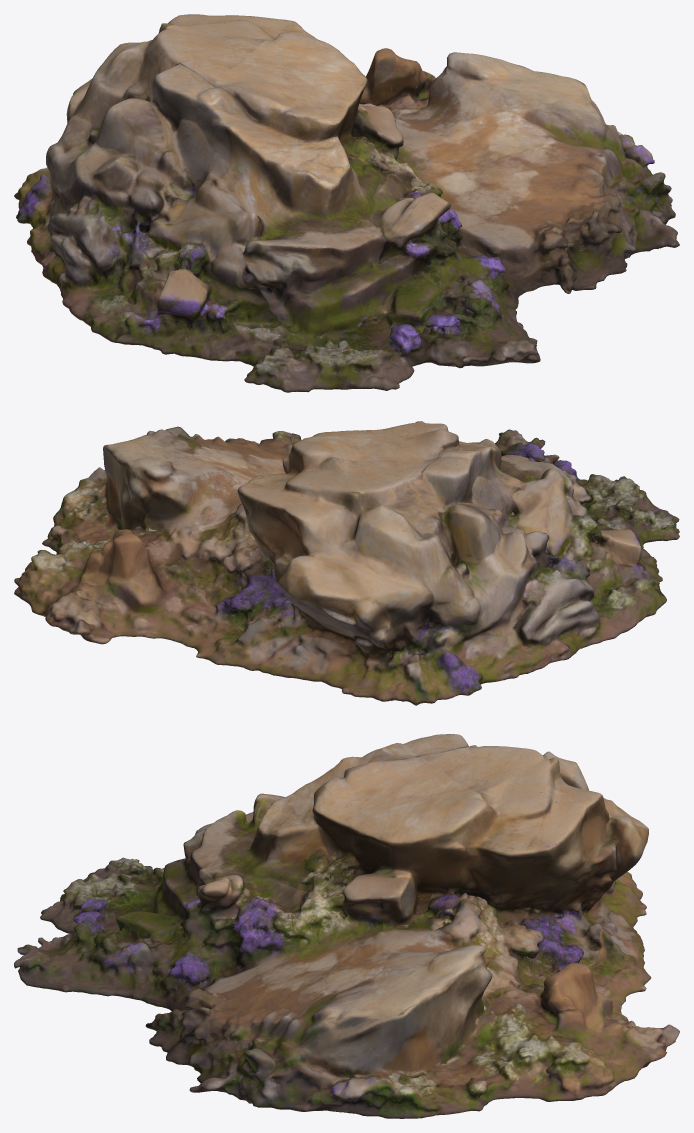
File: Meshy_AI_Meadow_Rocks_1016084404_texture.fbx
3 views of the same model, one above another, from view 1: azimuth 30°, elevation 25°; view 2: azimuth 150°, elevation 25°; view 3: azimuth 270°, elevation 25° (orthographic). The views are drawn at different scales.
Visible parts, largest first — view 1: Mesh_0; view 2: Mesh_0; view 3: Mesh_0.
Part boxes in pixels (x1=…): Mesh_0: x1=14, y1=14, x2=679, y2=392; Mesh_0: x1=14, y1=421, x2=679, y2=705; Mesh_0: x1=14, y1=734, x2=679, y2=1118.
Size of the model in its own units: 199 by 57.38 by 197.
Materials: 1 (1 with a texture image).
